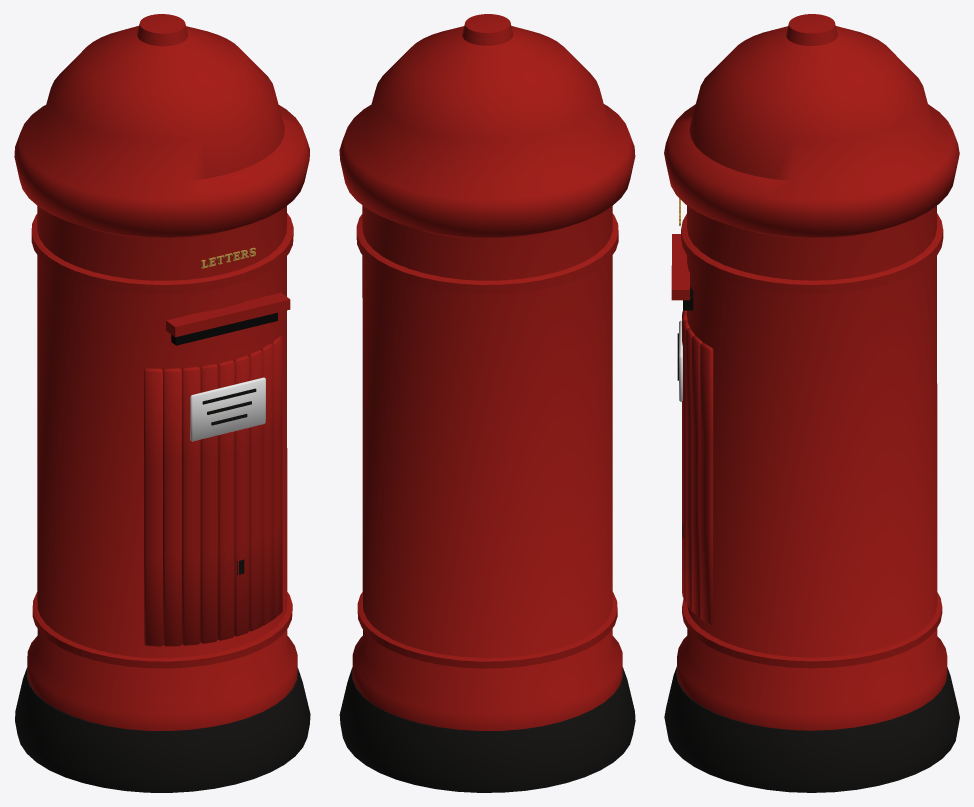
The model's file is pillar_box.glb.
3 renders of one model, left to right at view 1: azimuth 30°, elevation 25°; view 2: azimuth 150°, elevation 25°; view 3: azimuth 270°, elevation 25°, orthographic.
Visible parts, largest first — view 1: Sammel Lack, Schild Weiß, Sammel Glatt; view 2: Sammel Lack; view 3: Sammel Lack.
Boxes of the visible parts, x1,y1,x2,y2 form: Sammel Lack: [14, 14, 310, 792]; Schild Weiß: [190, 377, 265, 441]; Sammel Glatt: [171, 312, 277, 575]; Sammel Lack: [339, 14, 635, 792]; Sammel Lack: [664, 14, 959, 792].
Size of what is drawn, in the model's own units: 0.5804 by 1.54 by 0.5802.
